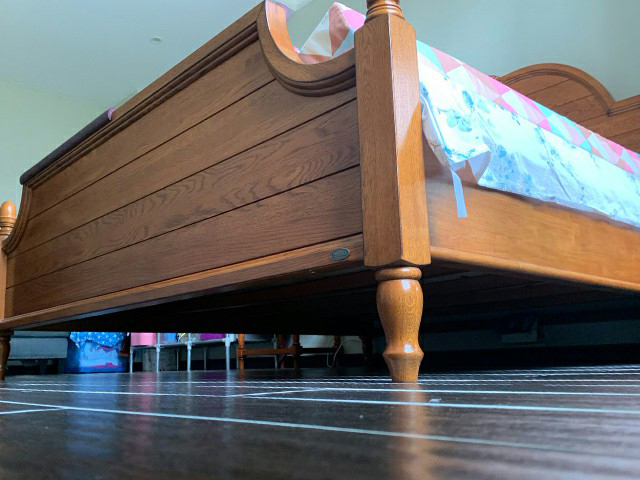bed: (6, 2, 640, 384)
